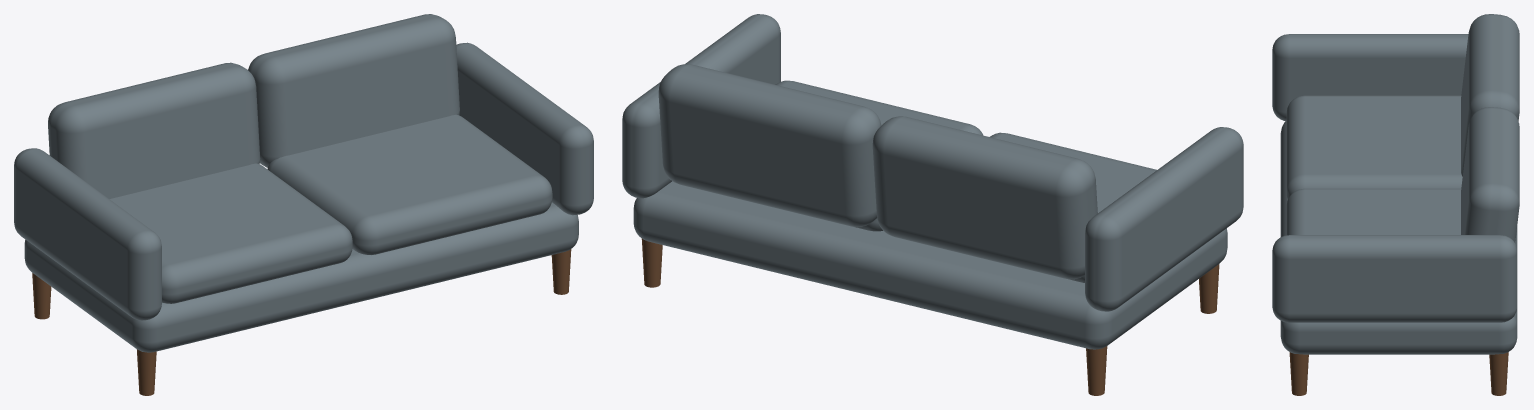
Rendered from sunday-sofa-slate.glb.
3 renders of one model, left to right at view 1: azimuth 30°, elevation 25°; view 2: azimuth 150°, elevation 25°; view 3: azimuth 270°, elevation 25°, orthographic. The views are drawn at different scales.
Visible parts, largest first — view 1: The Sunday Sofa — Slate; view 2: The Sunday Sofa — Slate; view 3: The Sunday Sofa — Slate.
Part boxes in pixels (x1,y1,x2,y2): The Sunday Sofa — Slate: (14,14,593,395); The Sunday Sofa — Slate: (622,14,1243,395); The Sunday Sofa — Slate: (1272,14,1519,395).
Bounding box in the file's own units: 1.86 × 0.79 × 0.9.
